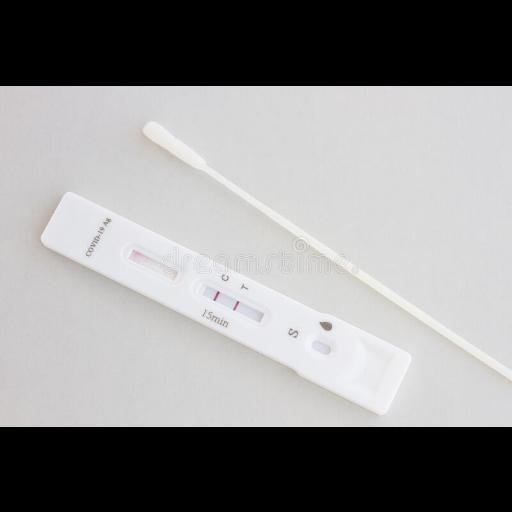Pos: (40, 188, 413, 414)
